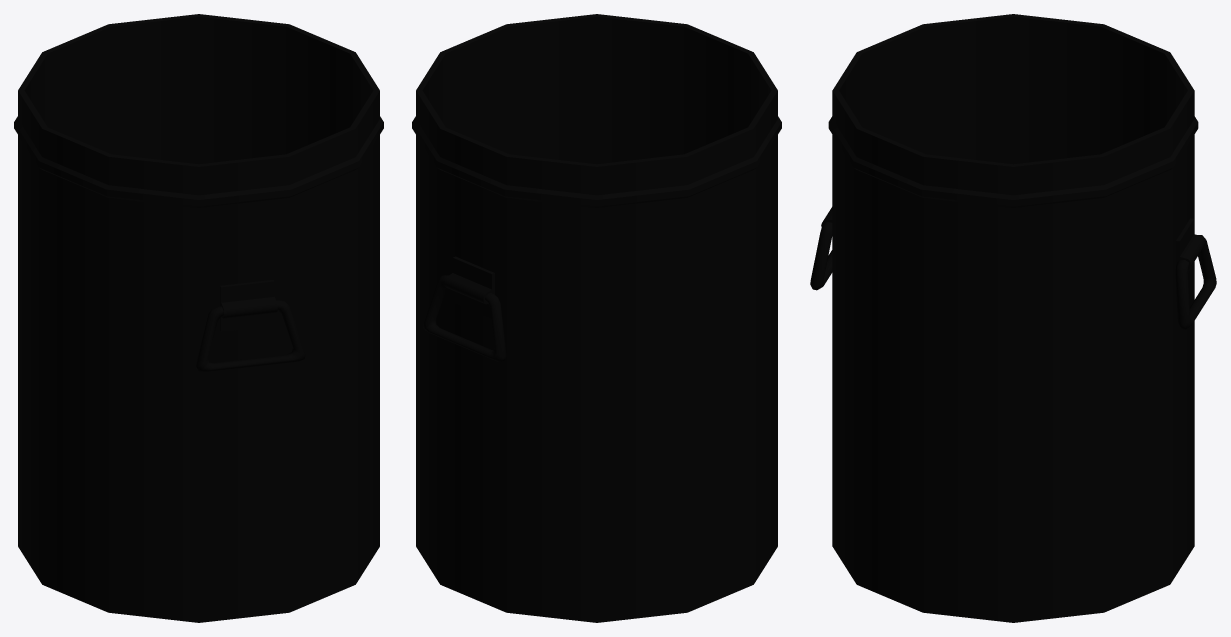
Rendered from trash_bin.fbx.
3 renders of one model, left to right at view 1: azimuth 30°, elevation 25°; view 2: azimuth 150°, elevation 25°; view 3: azimuth 270°, elevation 25°, orthographic.
Visible parts, largest first — view 1: tb_child.001; view 2: tb_child.001; view 3: tb_child.001.
Boxes of the visible parts, x1=… form: tb_child.001: x1=14, y1=14, x2=383, y2=622; tb_child.001: x1=412, y1=14, x2=781, y2=622; tb_child.001: x1=810, y1=14, x2=1216, y2=622.
Size of the model in its own units: 53.59 by 72.93 by 58.9.
